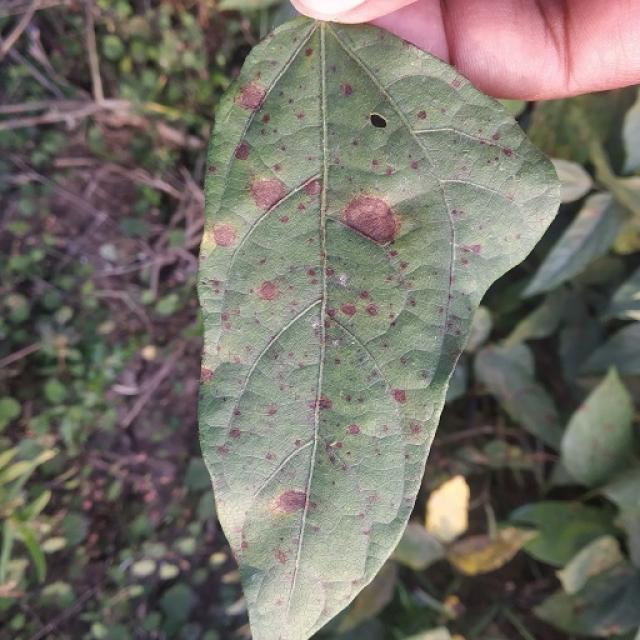Anthracnose: (343, 184, 407, 251), (251, 177, 288, 212), (273, 488, 306, 515), (237, 81, 267, 110), (321, 439, 347, 467), (212, 223, 236, 247), (257, 280, 280, 301), (303, 178, 321, 196), (233, 142, 250, 161), (369, 113, 388, 129), (313, 396, 333, 410), (339, 303, 357, 317), (391, 389, 407, 404), (365, 303, 379, 317), (340, 83, 354, 97), (274, 550, 288, 564), (334, 273, 348, 287), (200, 367, 213, 381), (408, 422, 422, 435), (348, 424, 361, 435), (229, 428, 241, 439), (265, 406, 278, 416), (216, 445, 228, 455), (416, 110, 427, 120), (502, 147, 513, 157), (470, 244, 481, 254), (451, 79, 462, 89), (325, 307, 336, 317), (325, 267, 335, 277), (306, 268, 317, 277), (304, 48, 314, 57), (360, 290, 370, 299), (491, 132, 501, 141), (240, 540, 249, 550), (265, 452, 275, 461), (295, 111, 305, 120), (410, 161, 419, 170), (273, 163, 282, 172), (385, 167, 394, 176), (221, 313, 229, 323), (460, 257, 469, 265), (371, 159, 379, 167), (233, 409, 241, 417), (208, 165, 216, 173), (330, 64, 337, 73), (352, 139, 359, 146)
Blackgram: (198, 19, 559, 639)
